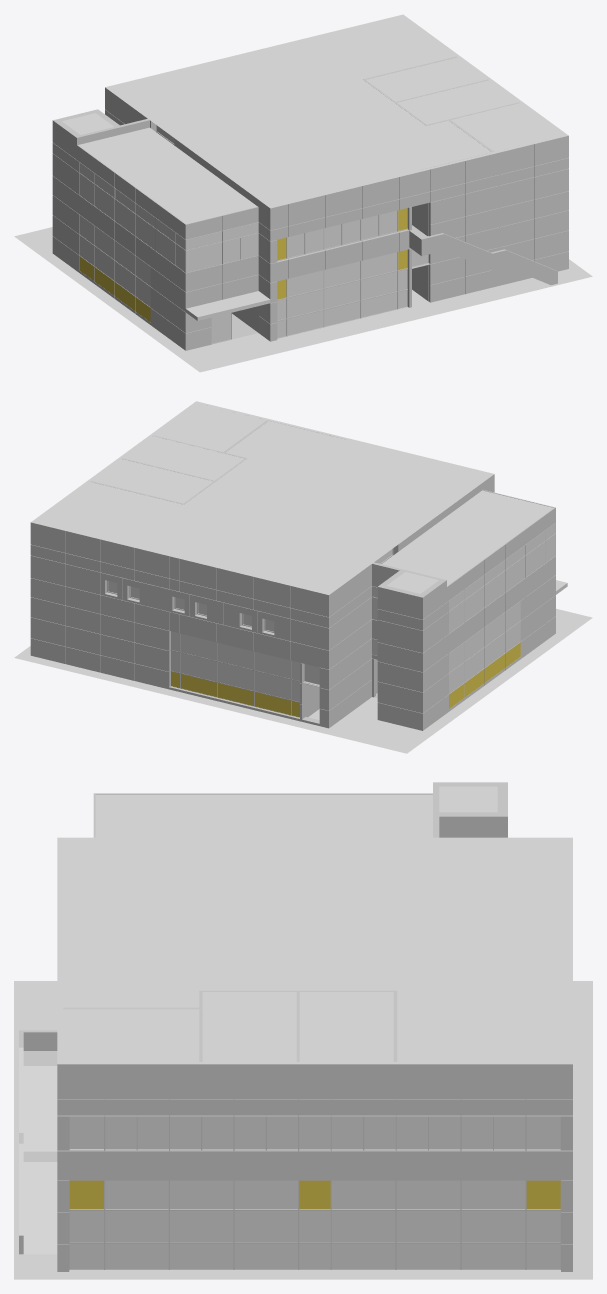
Rendered from Campus-3D_POI_057-Detail.fbx.
3 renders of one model, top to bottom at view 1: azimuth 30°, elevation 25°; view 2: azimuth 150°, elevation 25°; view 3: azimuth 270°, elevation 25°, orthographic. The views are drawn at different scales.
Visible parts, largest first — view 1: Cube, Plane.001, Plane, Plane.002, Plane.003; view 2: Cube, Plane.001, Plane.002, Plane, Plane.003; view 3: Cube, Plane.001, Plane, Plane.002, Plane.003.
Boxes of the visible parts, bbox=[...] form: Cube: bbox=[52, 56, 568, 350]; Plane.001: bbox=[105, 14, 568, 208]; Plane: bbox=[14, 227, 592, 372]; Plane.002: bbox=[78, 127, 257, 223]; Plane.003: bbox=[62, 113, 113, 134]; Cube: bbox=[30, 420, 567, 730]; Plane.001: bbox=[31, 401, 493, 594]; Plane.002: bbox=[382, 490, 553, 585]; Plane: bbox=[14, 608, 592, 753]; Plane.003: bbox=[387, 572, 438, 593]; Cube: bbox=[19, 782, 572, 1271]; Plane.001: bbox=[57, 837, 572, 1064]; Plane: bbox=[14, 981, 592, 1279]; Plane.002: bbox=[95, 794, 432, 837]; Plane.003: bbox=[439, 786, 497, 812].
Size of the model in its own units: 2745 by 890 by 2250.
